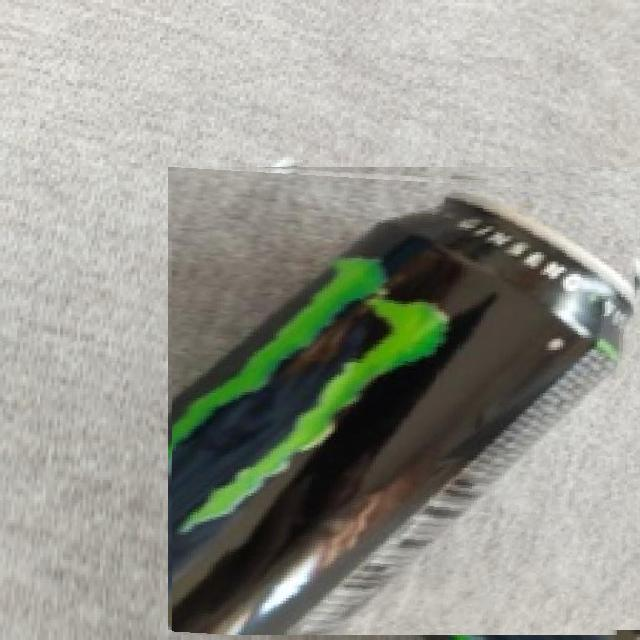recyclable: (172, 162, 640, 635)
